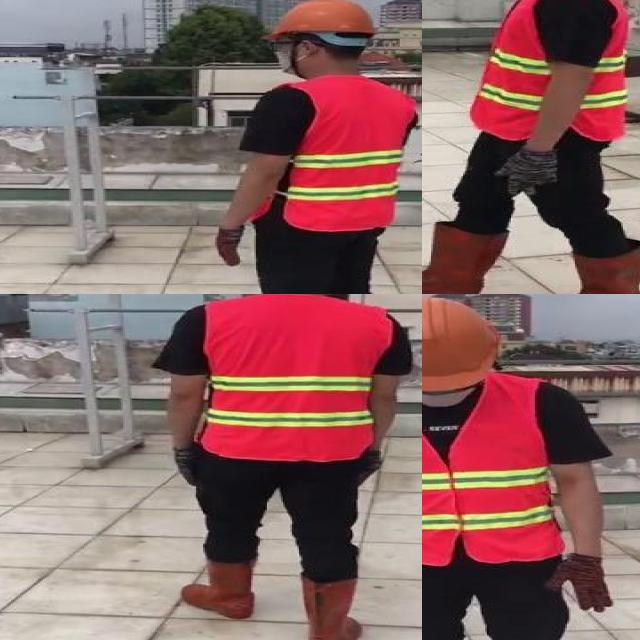boots: (422, 223, 507, 294), (525, 247, 640, 294), (182, 556, 256, 618), (301, 573, 365, 640)
hand_glove: (548, 554, 612, 613), (495, 148, 561, 195), (173, 444, 205, 485), (215, 227, 245, 267)
head_helmet: (422, 297, 500, 383), (263, 0, 378, 39)
person: (155, 294, 414, 640), (422, 298, 616, 640), (422, 0, 640, 294), (208, 0, 422, 294)
vest: (198, 294, 386, 460), (422, 374, 561, 561), (466, 0, 624, 140), (274, 76, 405, 230)
